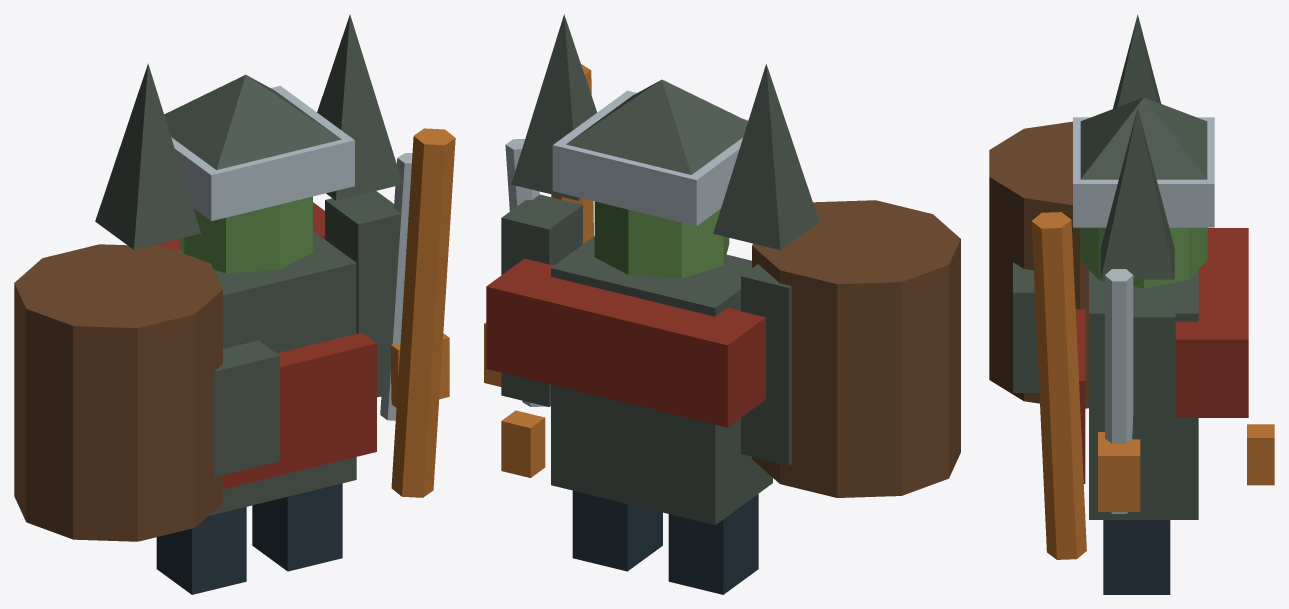
Rendered from swordsman.obj.
3 views of the same model, side by side, from view 1: azimuth 30°, elevation 25°; view 2: azimuth 150°, elevation 25°; view 3: azimuth 270°, elevation 25° (orthographic). The views are drawn at different scales.
Parts seen in each view (by area): view 1: infantry; view 2: infantry; view 3: infantry.
Part boxes in pixels (left/top/right/bottom): infantry: left=14, top=14, right=455, bottom=594; infantry: left=484, top=14, right=960, bottom=594; infantry: left=989, top=14, right=1274, bottom=594.
Bounding box in the file's own units: 1.54 × 1.79 × 0.9273.
